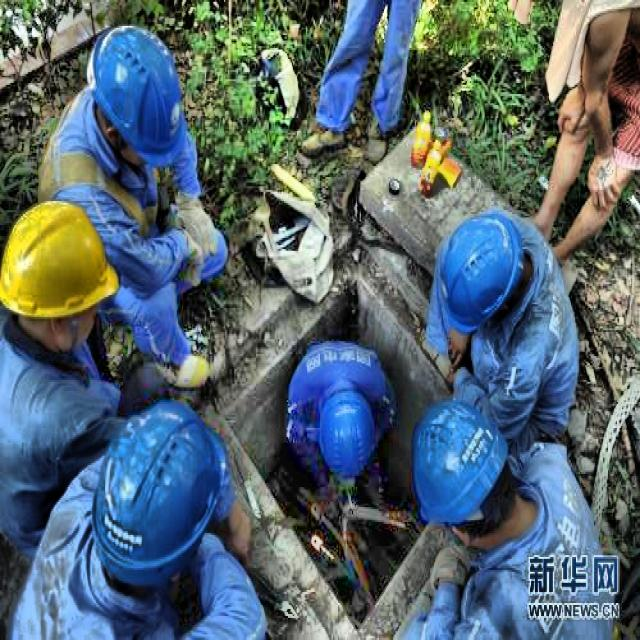helmet: (86, 402, 232, 603), (5, 194, 115, 369), (407, 394, 518, 548), (82, 21, 188, 176), (428, 212, 544, 347), (312, 388, 380, 468)
